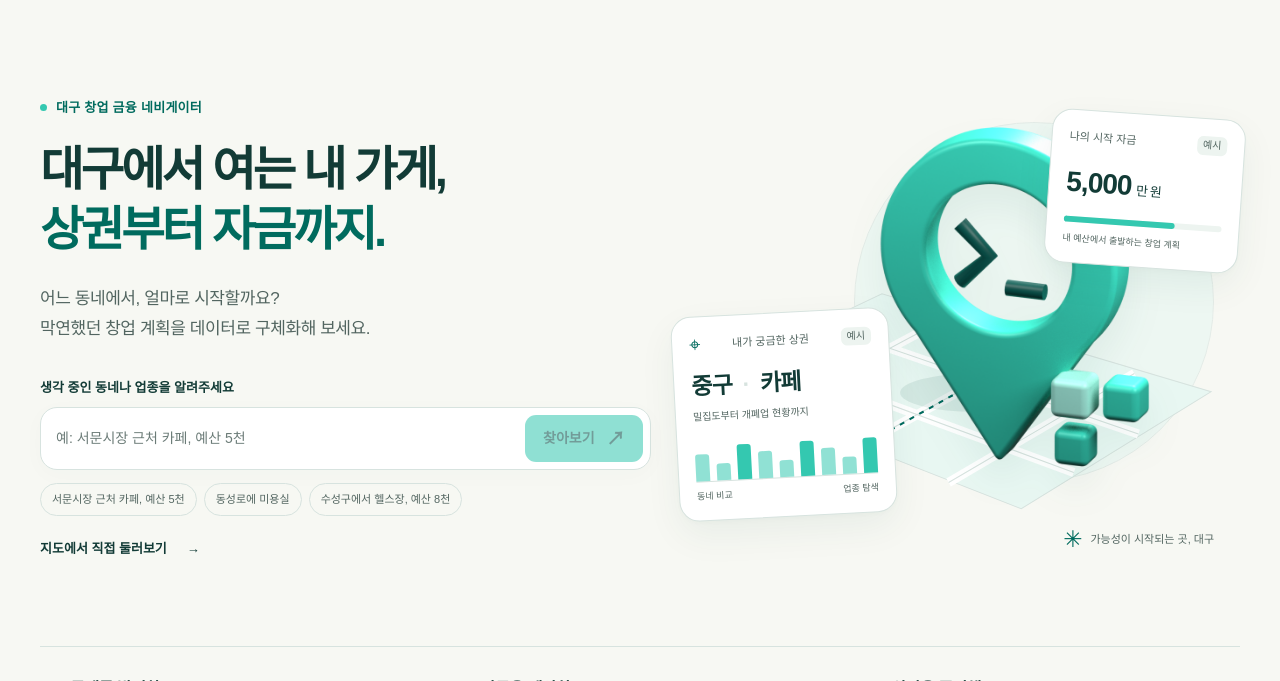
Test case: 오류를 표시하고 입력을 보존해 재시도할 수 있다
This screenshot has width=1280, height=681.
Type "중구 카페" into the field at (283, 439), box [48, 416, 517, 462]
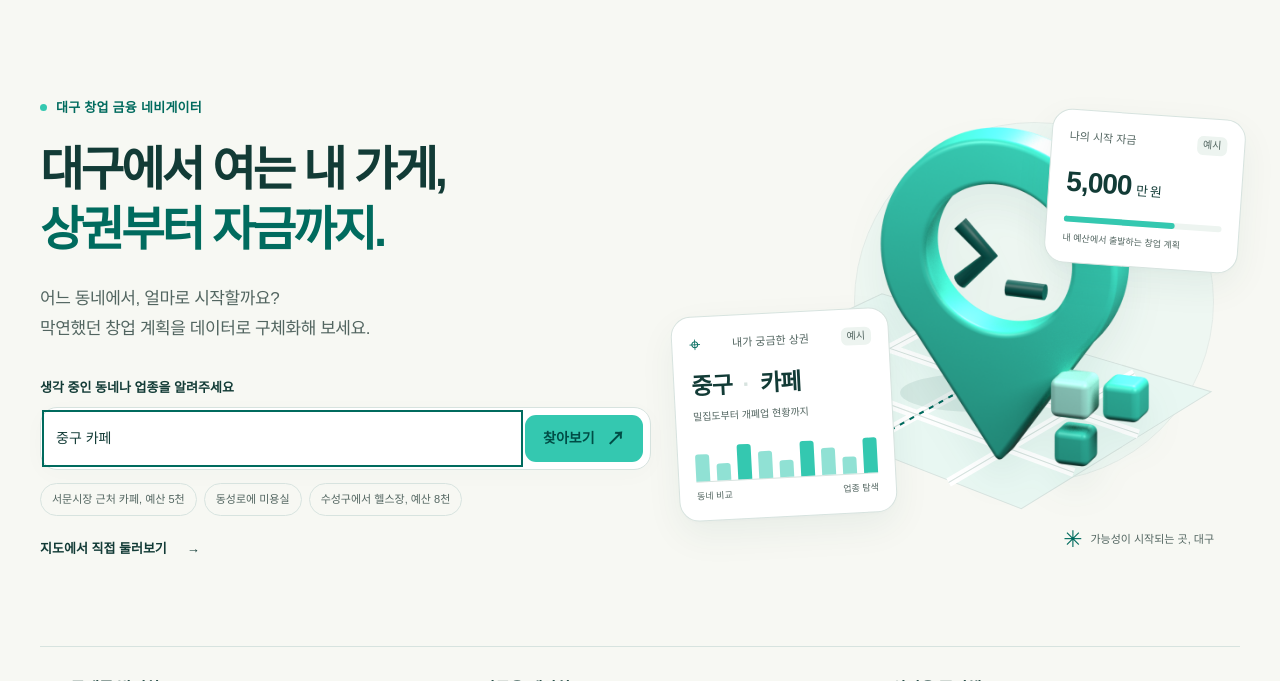
Click the button "찾아보기 ↗" at (584, 439), box [525, 416, 643, 462]
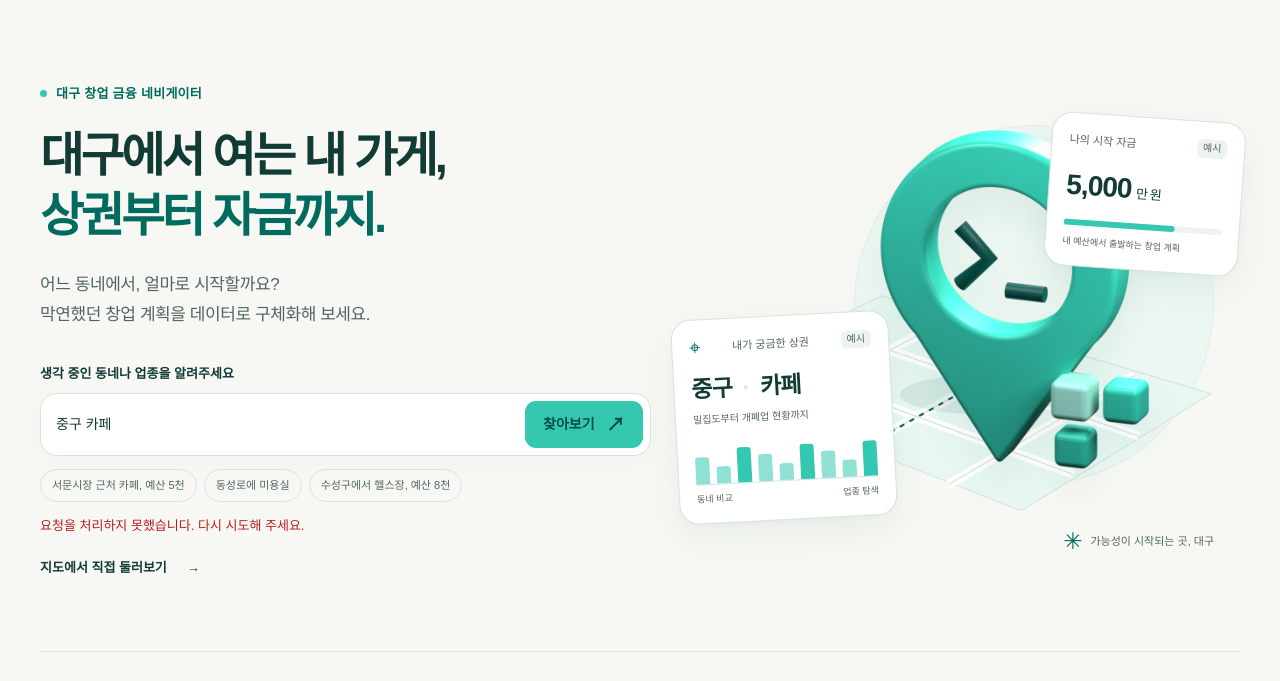
expect the message shows "다시 시도": met, box [40, 518, 304, 533]
Click the button "찾아보기 ↗" at (584, 425), box [525, 401, 643, 448]
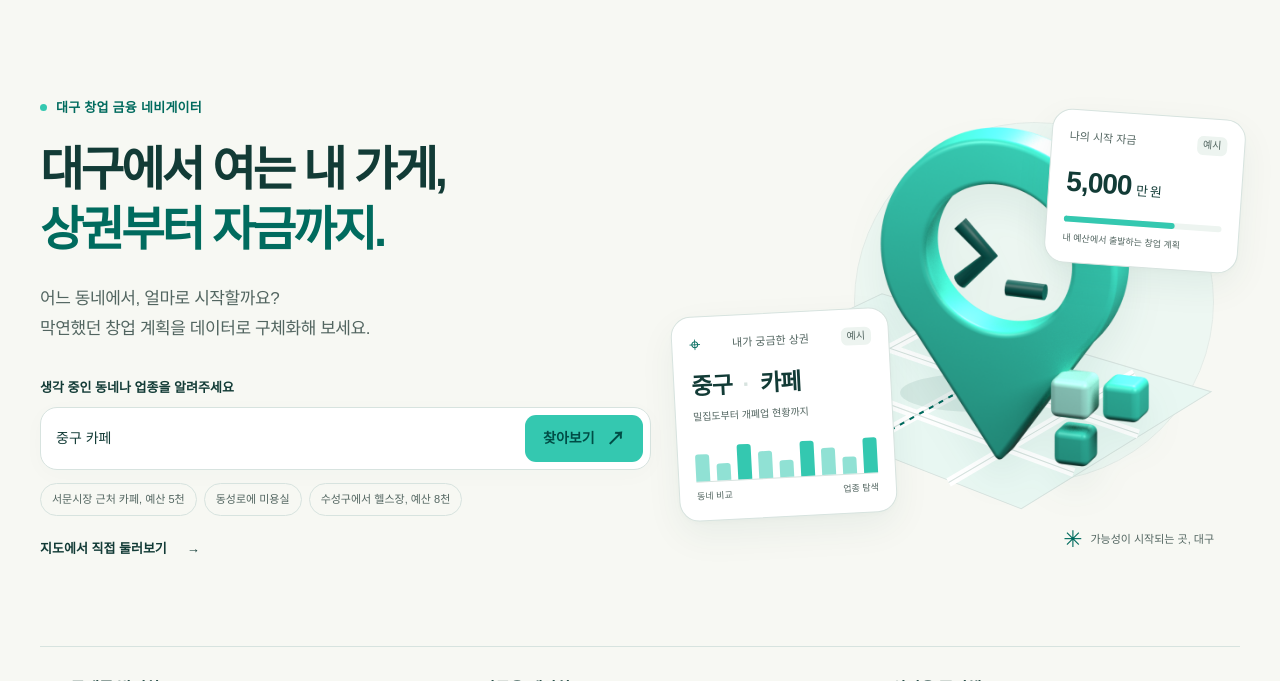
expect the message "요청을 처리하지 못했습니다. 다시 시도해 주세요." is gone: met
